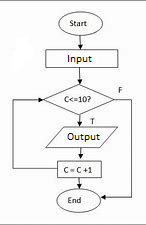arrow: (10, 97, 58, 172), (99, 98, 132, 202), (77, 67, 84, 85), (75, 112, 84, 126), (75, 146, 84, 159), (77, 34, 84, 50), (75, 176, 84, 188)
data: (43, 123, 119, 150)
decision: (41, 83, 114, 114)
process: (42, 48, 119, 68), (55, 158, 104, 179)
terminator: (57, 9, 105, 36), (55, 186, 103, 213)
text: (66, 131, 101, 142), (66, 52, 92, 64), (62, 164, 93, 173), (63, 94, 92, 103), (66, 18, 88, 27), (66, 195, 82, 204), (87, 117, 96, 125), (118, 85, 122, 94)
